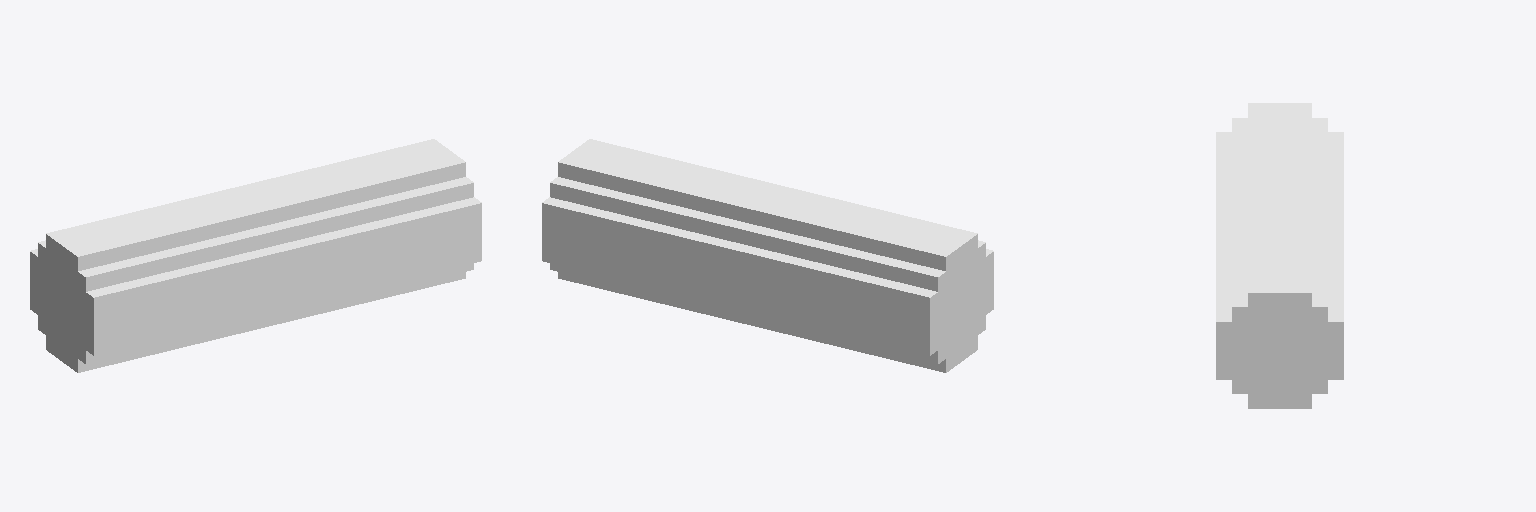
The model's file is suppressor.obj.
The picture shows the model from 3 angles: view 1: azimuth 30°, elevation 25°; view 2: azimuth 150°, elevation 25°; view 3: azimuth 270°, elevation 25°; orthographic projection.
Visible parts, largest first — view 1: Shape3, Shape5, Shape1, Shape4; view 2: Shape2, Shape5, Shape1, Shape4, Shape3; view 3: Shape1, Shape5, Shape3, Shape2, Shape4.
Part boxes in pixels (bbox=[...]): Shape3: bbox=[78, 197, 481, 355]; Shape5: bbox=[46, 139, 465, 285]; Shape1: bbox=[38, 177, 473, 363]; Shape4: bbox=[46, 272, 465, 372]; Shape2: bbox=[542, 197, 945, 355]; Shape5: bbox=[558, 139, 977, 285]; Shape1: bbox=[550, 177, 985, 363]; Shape4: bbox=[558, 272, 977, 372]; Shape3: bbox=[978, 249, 993, 320]; Shape1: bbox=[1232, 118, 1327, 393]; Shape5: bbox=[1248, 103, 1311, 321]; Shape3: bbox=[1216, 132, 1247, 379]; Shape2: bbox=[1312, 132, 1343, 379]; Shape4: bbox=[1248, 381, 1311, 408].
Size of the model in its own units: 0.875 by 0.25 by 0.25.